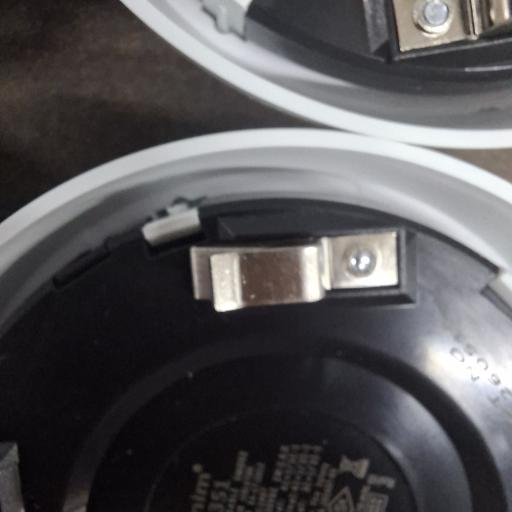yayli: (185, 226, 408, 312)
